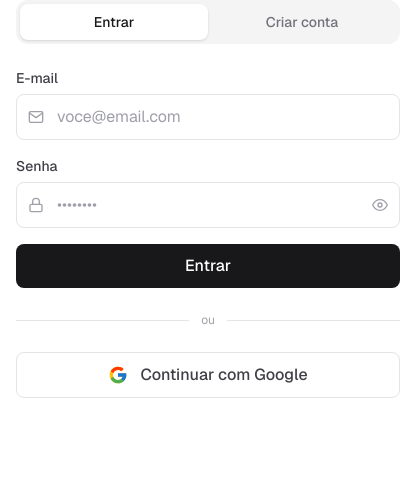
it: AuthForm — modo Criar conta › should switch to signup mode when clicking "Criar conta"
Click the tab "Criar conta".
click(302, 22)  # box left=208, top=4, right=396, bottom=40
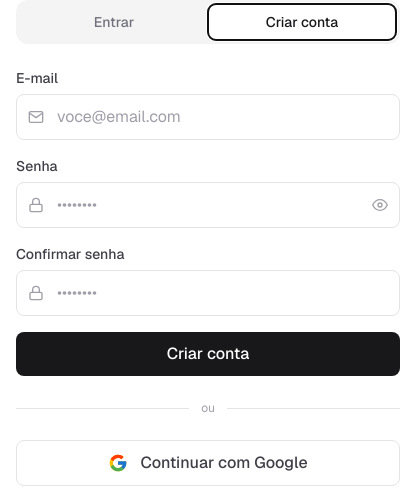
Now the password field labelled "Confirmar senha" is shown, box left=16, top=270, right=400, bottom=316
